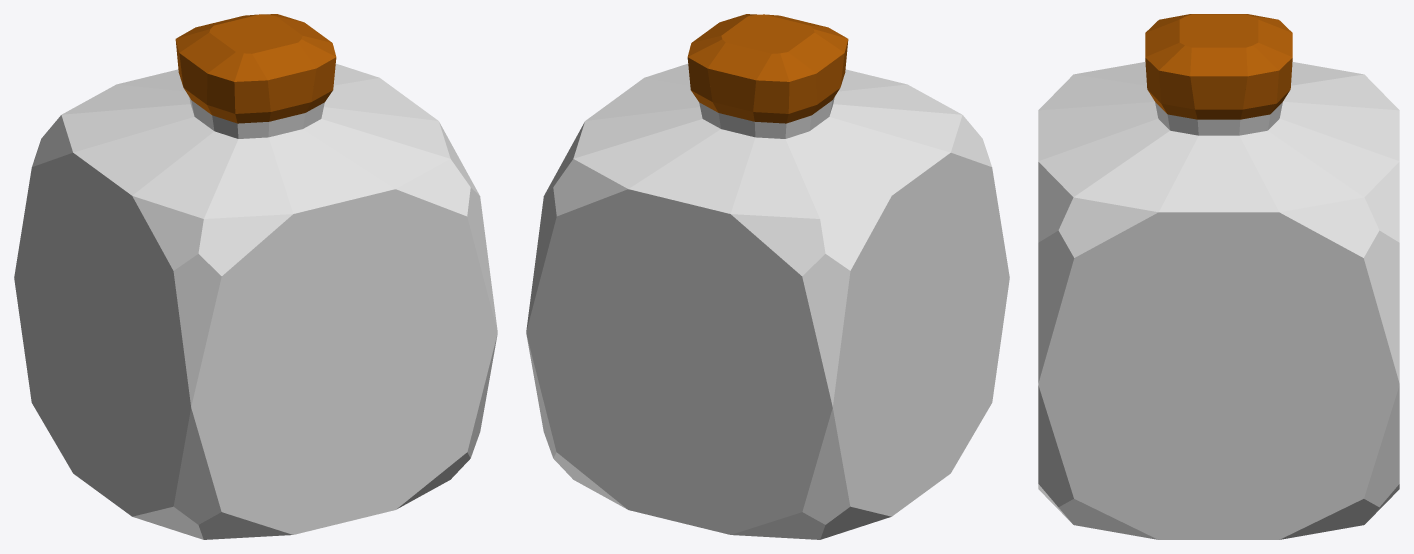
Rendered from Water.fbx.
The picture shows the model from 3 angles, left to right: view 1: azimuth 30°, elevation 25°; view 2: azimuth 150°, elevation 25°; view 3: azimuth 270°, elevation 25°; orthographic projection. The views are drawn at different scales.
Visible parts, largest first — view 1: Cube.011; view 2: Cube.011; view 3: Cube.011.
Part boxes in pixels (x1,y1,x2,y2): Cube.011: (14,14,497,539); Cube.011: (526,14,1009,539); Cube.011: (1038,14,1399,539).
Bounding box in the file's own units: 200 × 264 × 200.
